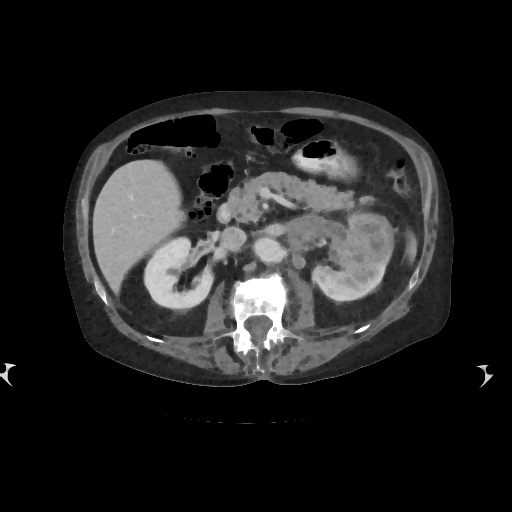Lesion: (340, 207, 398, 278)
